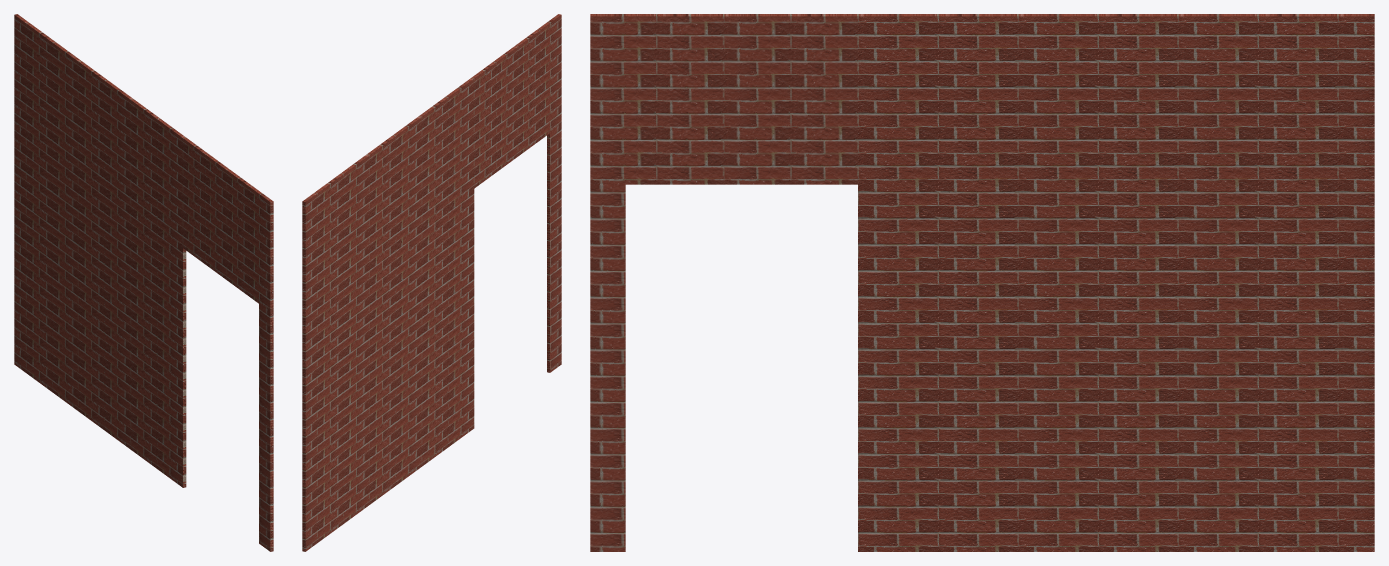
Rendered from ovenWall.fbx.
The picture shows the model from 3 angles, left to right: view 1: azimuth 30°, elevation 25°; view 2: azimuth 150°, elevation 25°; view 3: azimuth 270°, elevation 25°; orthographic projection. The views are drawn at different scales.
Visible parts, largest first — view 1: WallOven; view 2: WallOven; view 3: WallOven.
Part boxes in pixels (box(x1,y1,x2,y2)): WallOven: box(14, 14, 273, 551); WallOven: box(302, 14, 561, 551); WallOven: box(590, 14, 1374, 551).
Bounding box in the file's own units: 0.0277 × 3 × 3.98.
